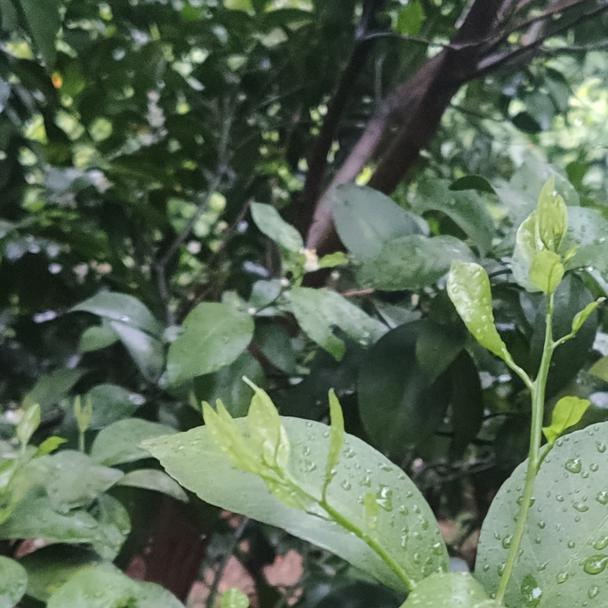shoot: (459, 190, 597, 405), (214, 380, 365, 544)
